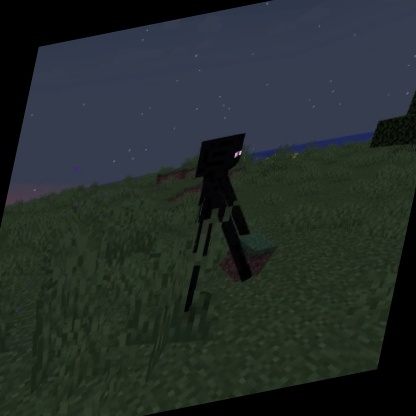enderman: (160, 121, 287, 320)
